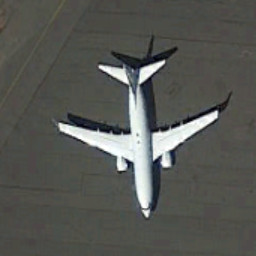Airplane: (50, 53, 226, 223)
